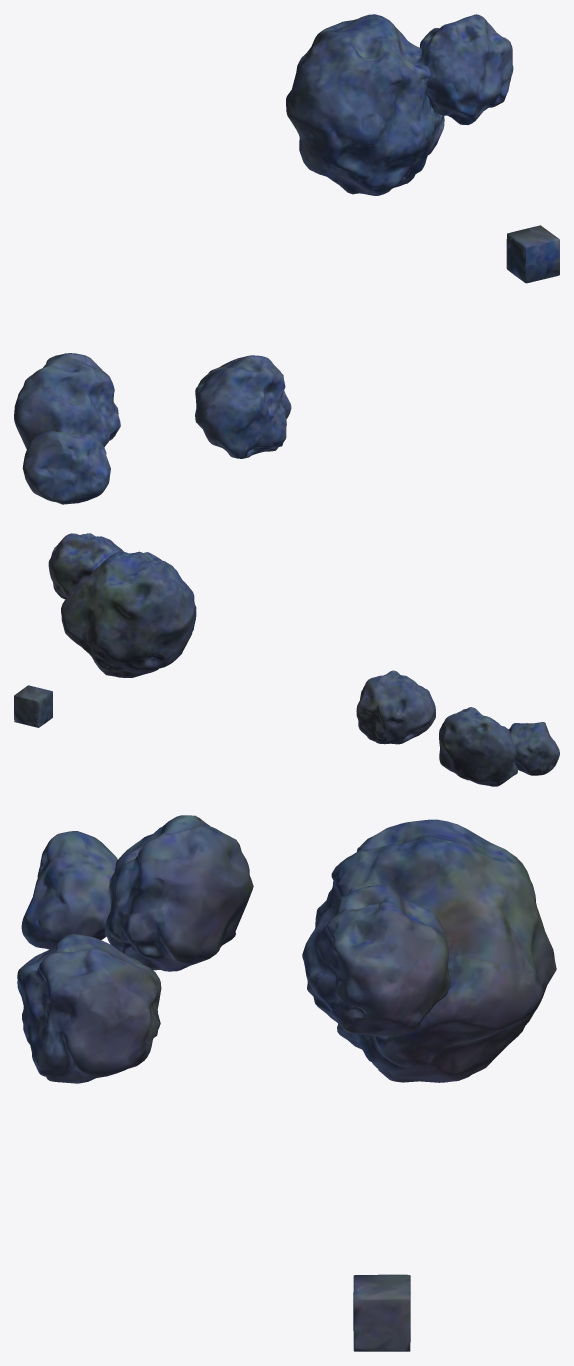
File: boulder-4.glb
3 views of the same model, one above another, from view 1: azimuth 30°, elevation 25°; view 2: azimuth 150°, elevation 25°; view 3: azimuth 270°, elevation 25° (orthographic). The views are drawn at different scales.
Parts seen in each view (by area): view 1: mesh_node; view 2: mesh_node; view 3: mesh_node.
Part boxes in pixels (x1,y1,x2,y2): mesh_node: [14, 14, 559, 504]; mesh_node: [14, 533, 559, 786]; mesh_node: [17, 815, 556, 1351].
Size of the model in its own units: 1.9 by 0.8163 by 0.9653.
Materials: 1 (1 with a texture image).
